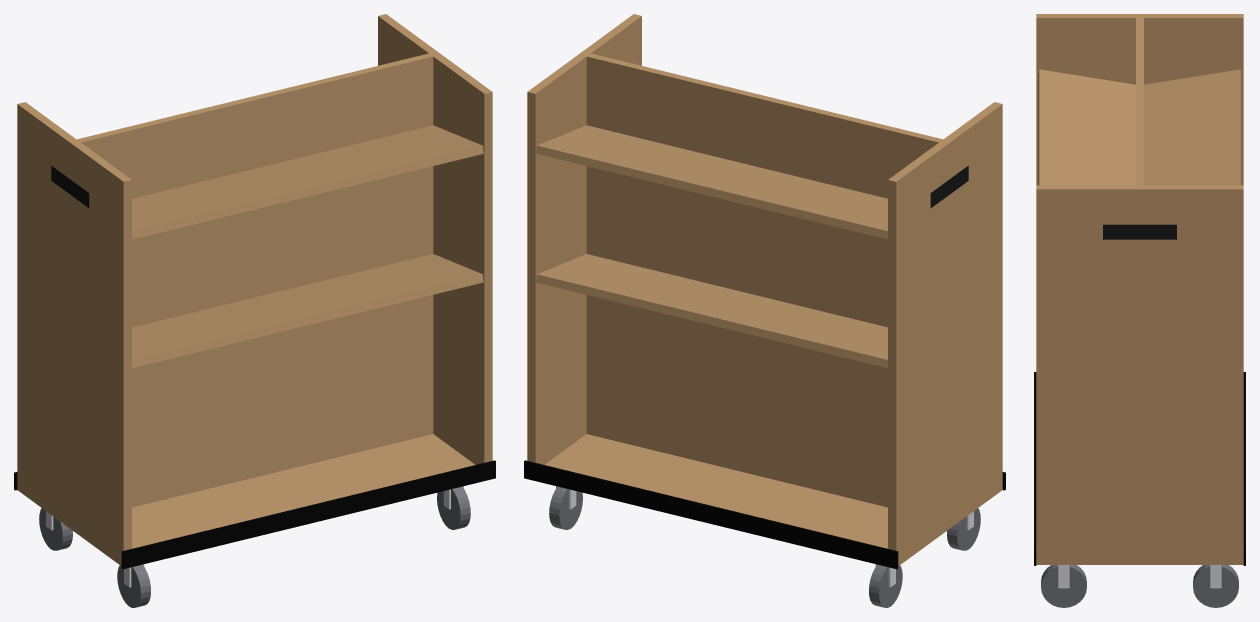
File: 080_library_book_cart.glb
3 renders of one model, left to right at view 1: azimuth 30°, elevation 25°; view 2: azimuth 150°, elevation 25°; view 3: azimuth 270°, elevation 25°, orthographic. The views are drawn at different scales.
Visible parts, largest first — view 1: 025_centre_divider, 016_end_panel, 018_end_panel, 024_shelf_2_side_b, 022_shelf_1_side_b, 020_bottom_deck, 027_bumper, 004_plate_caster_wheel, 012_plate_caster_wheel, 000_plate_caster_wheel; view 2: 025_centre_divider, 016_end_panel, 018_end_panel, 023_shelf_2_side_a, 021_shelf_1_side_a, 020_bottom_deck, 026_bumper, 000_plate_caster_wheel, 008_plate_caster_wheel, 004_plate_caster_wheel; view 3: 018_end_panel, 016_end_panel, 023_shelf_2_side_a, 024_shelf_2_side_b, 008_plate_caster_wheel, 012_plate_caster_wheel, 025_centre_divider, 019_end_grip_cutout, 026_bumper, 027_bumper.
Boxes of the visible parts, bbox=[...] form: 025_centre_divider: bbox=[77, 53, 433, 507]; 016_end_panel: bbox=[17, 102, 131, 565]; 018_end_panel: bbox=[378, 14, 492, 464]; 024_shelf_2_side_b: bbox=[132, 125, 483, 239]; 022_shelf_1_side_b: bbox=[132, 254, 483, 368]; 020_bottom_deck: bbox=[132, 434, 474, 548]; 027_bumper: bbox=[121, 460, 495, 569]; 004_plate_caster_wheel: bbox=[117, 564, 150, 607]; 012_plate_caster_wheel: bbox=[437, 486, 470, 529]; 000_plate_caster_wheel: bbox=[39, 508, 72, 550]; 025_centre_divider: bbox=[586, 53, 942, 507]; 016_end_panel: bbox=[888, 102, 1002, 565]; 018_end_panel: bbox=[527, 14, 641, 464]; 023_shelf_2_side_a: bbox=[536, 125, 887, 239]; 021_shelf_1_side_a: bbox=[536, 254, 887, 368]; 020_bottom_deck: bbox=[545, 434, 887, 548]; 026_bumper: bbox=[524, 460, 898, 569]; 000_plate_caster_wheel: bbox=[869, 564, 902, 607]; 008_plate_caster_wheel: bbox=[549, 486, 582, 529]; 004_plate_caster_wheel: bbox=[947, 508, 980, 550]; 018_end_panel: bbox=[1036, 185, 1243, 564]; 016_end_panel: bbox=[1036, 14, 1243, 185]; 023_shelf_2_side_a: bbox=[1144, 69, 1241, 185]; 024_shelf_2_side_b: bbox=[1038, 69, 1135, 185]; 008_plate_caster_wheel: bbox=[1193, 565, 1238, 607]; 012_plate_caster_wheel: bbox=[1041, 565, 1086, 607]; 025_centre_divider: bbox=[1136, 18, 1143, 185]; 019_end_grip_cutout: bbox=[1103, 224, 1176, 239]; 026_bumper: bbox=[1243, 372, 1245, 565]; 027_bumper: bbox=[1034, 372, 1036, 565].
Bounding box in the file's own units: 0.91 × 1.02 × 0.46.
